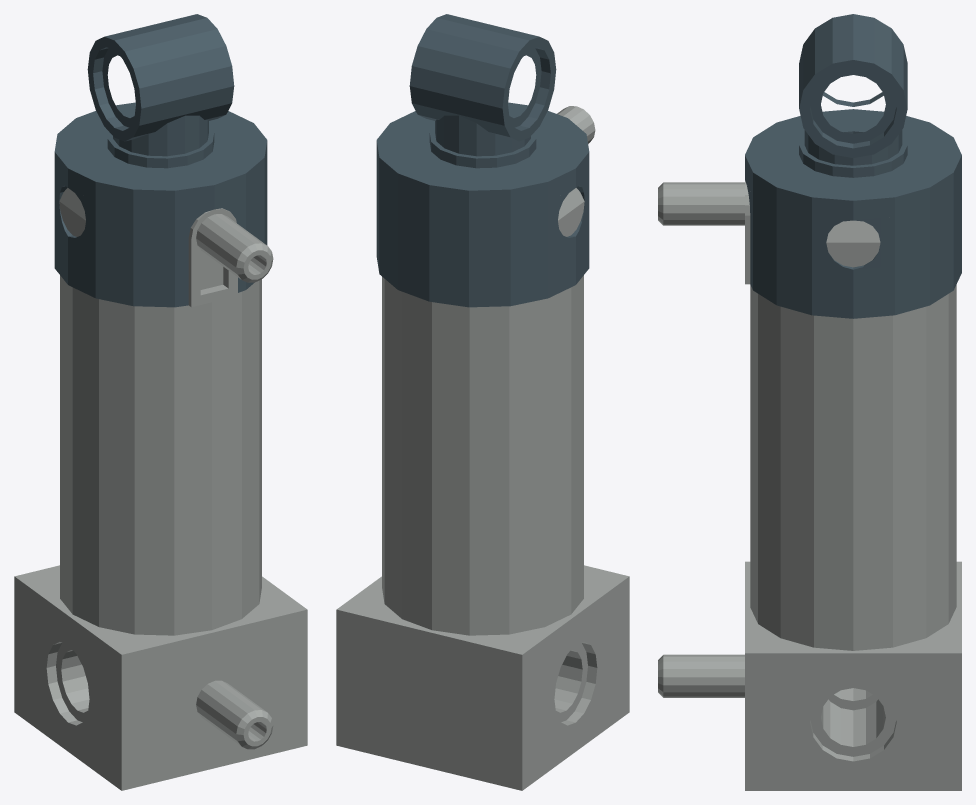
The picture shows the model from 3 angles, left to right: view 1: azimuth 30°, elevation 25°; view 2: azimuth 150°, elevation 25°; view 3: azimuth 270°, elevation 25°; orthographic projection.
Parts seen in each view (by area): view 1: world; view 2: world; view 3: world.
Part boxes in pixels (x1,y1,x2,y2): world: (14,14,307,790); world: (336,14,629,790); world: (658,14,961,790).
Size of the model in its own units: 0.016 by 0.0576 by 0.0224.
